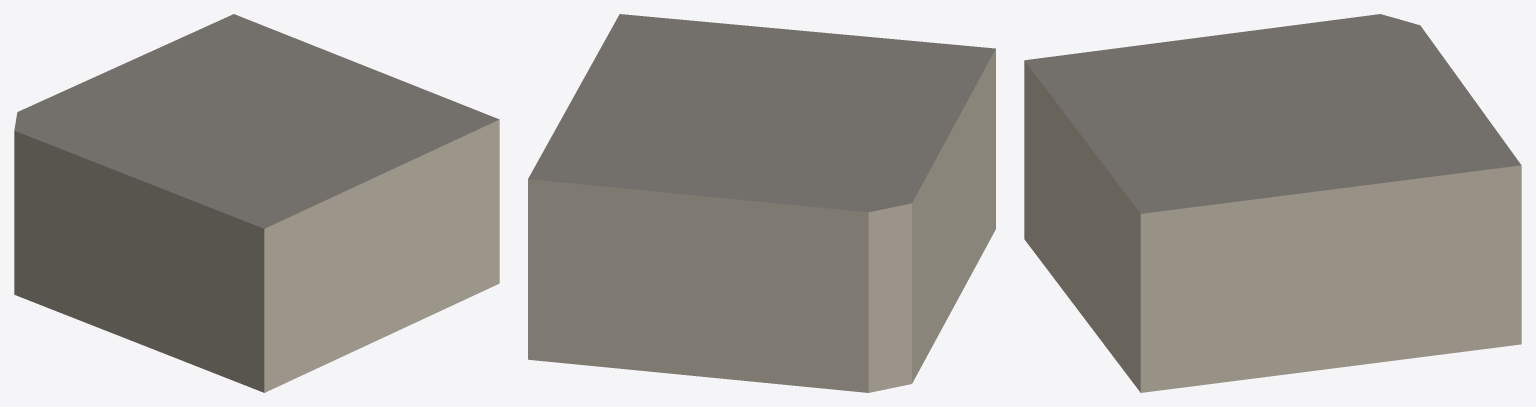
3 views of the same model, side by side, from view 1: azimuth 30°, elevation 25°; view 2: azimuth 150°, elevation 25°; view 3: azimuth 270°, elevation 25° (orthographic). The views are drawn at different scales.
Parts seen in each view (by area): view 1: HP-w380339822; view 2: HP-w380339822; view 3: HP-w380339822.
Boxes of the visible parts, bbox=[...] form: HP-w380339822: bbox=[14, 14, 499, 392]; HP-w380339822: bbox=[528, 14, 995, 392]; HP-w380339822: bbox=[1024, 14, 1521, 392].
Bounding box in the file's own units: 43.1 × 18 × 45.29.
